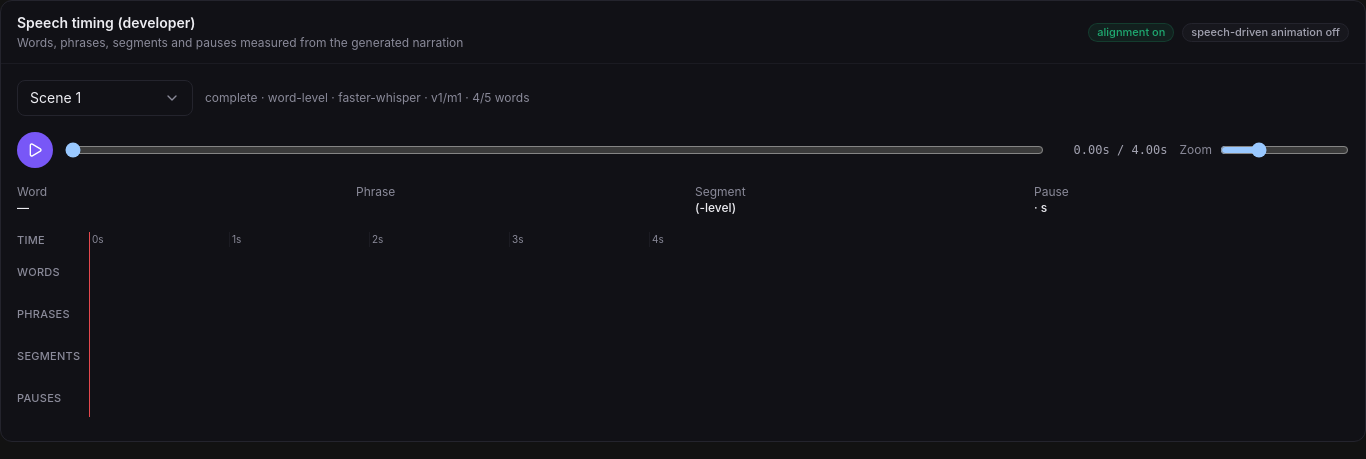
SpeechTimelineDebug › play / pause drives the audio element
This screenshot has width=1366, height=459.
expect the element named "Words" is shown: met, box [89,254,649,290]
Click the button named "Play".
click(35, 150)  # box [17,132,53,168]
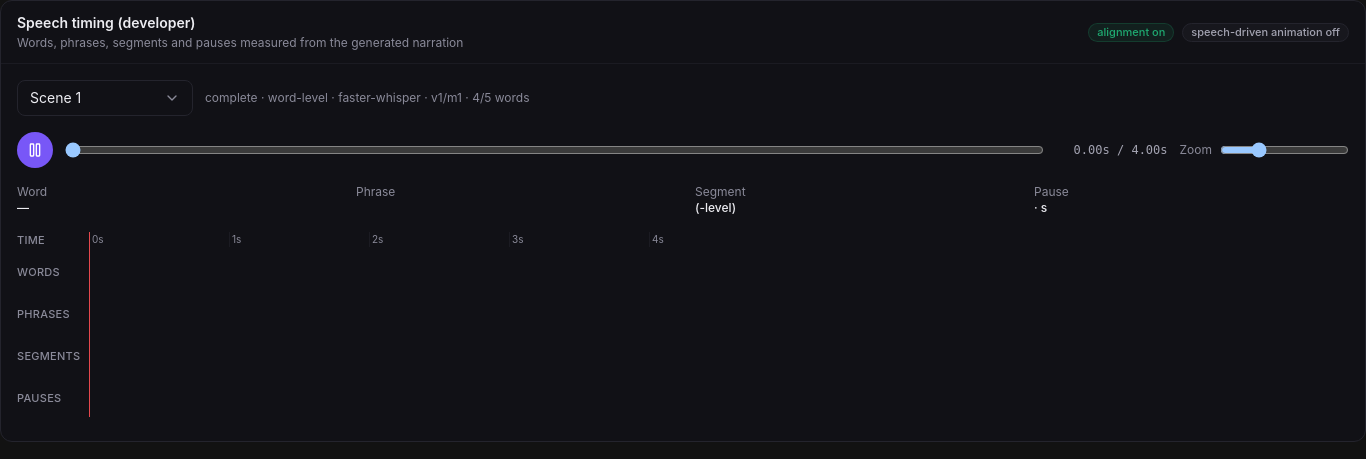
expect the button named "Pause" is shown: met, box [17,132,53,168]
